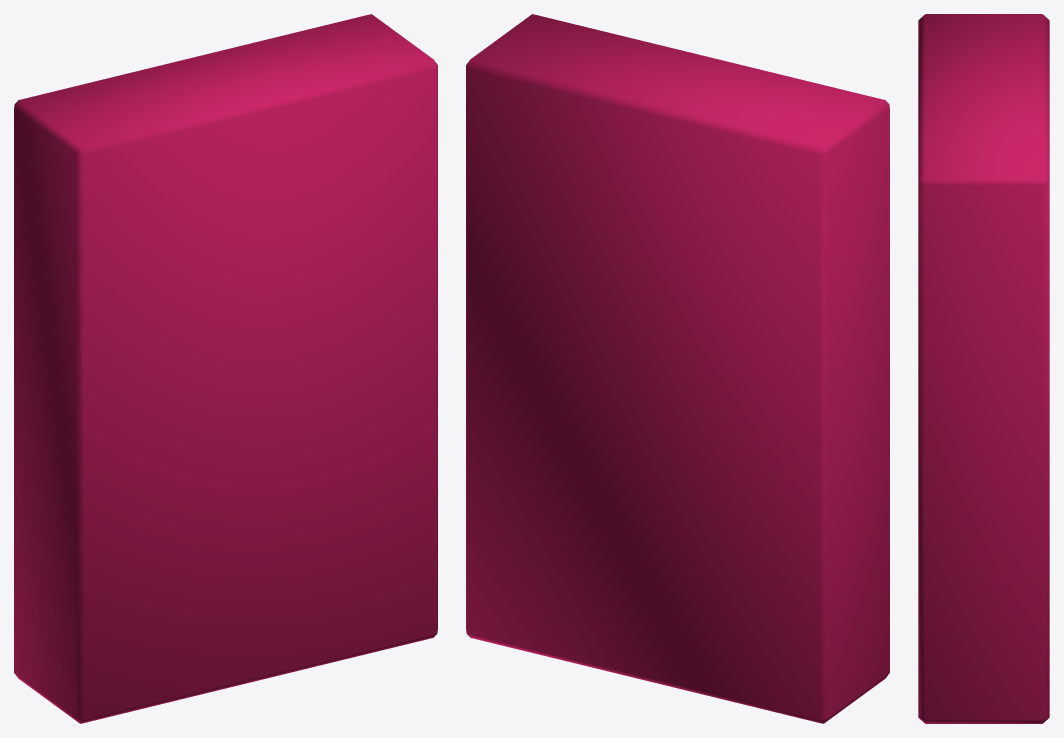
Rendered from long wall_pink.fbx.
3 renders of one model, left to right at view 1: azimuth 30°, elevation 25°; view 2: azimuth 150°, elevation 25°; view 3: azimuth 270°, elevation 25°, orthographic. The views are drawn at different scales.
Visible parts, largest first — view 1: long wall_pink; view 2: long wall_pink; view 3: long wall_pink.
Boxes of the visible parts, box(x1,y1,x2,y2) form: long wall_pink: box(14, 14, 437, 723); long wall_pink: box(466, 14, 889, 723); long wall_pink: box(918, 14, 1049, 723).
Bounding box in the file's own units: 0.3781 × 0.5777 × 0.1259.
